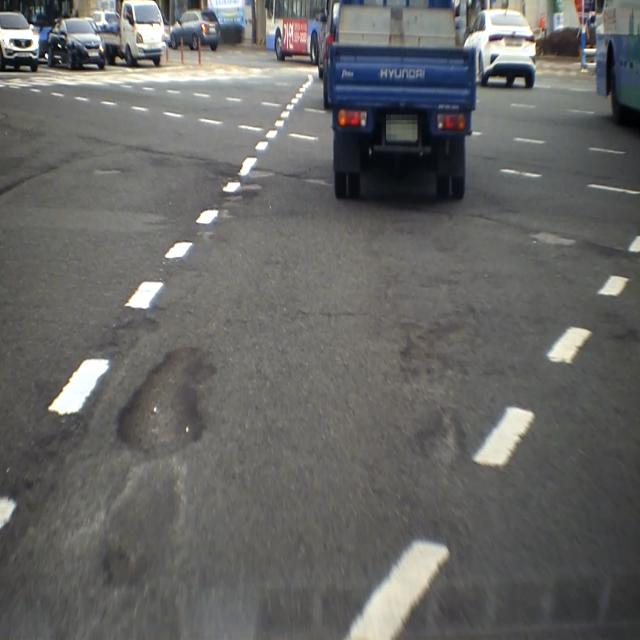Pothole: (113, 345, 218, 459), (396, 312, 476, 398), (420, 404, 468, 482), (98, 550, 147, 596)
